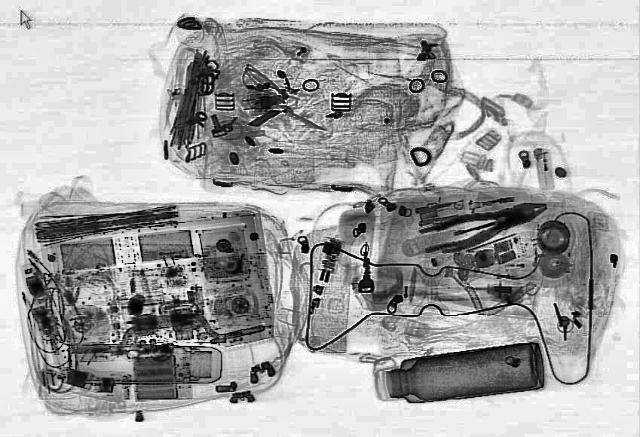Pliers: (424, 192, 556, 254)
